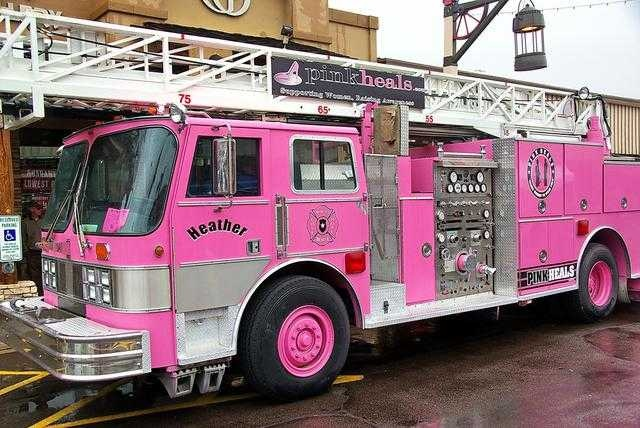Fire Truck: (11, 8, 637, 407)
